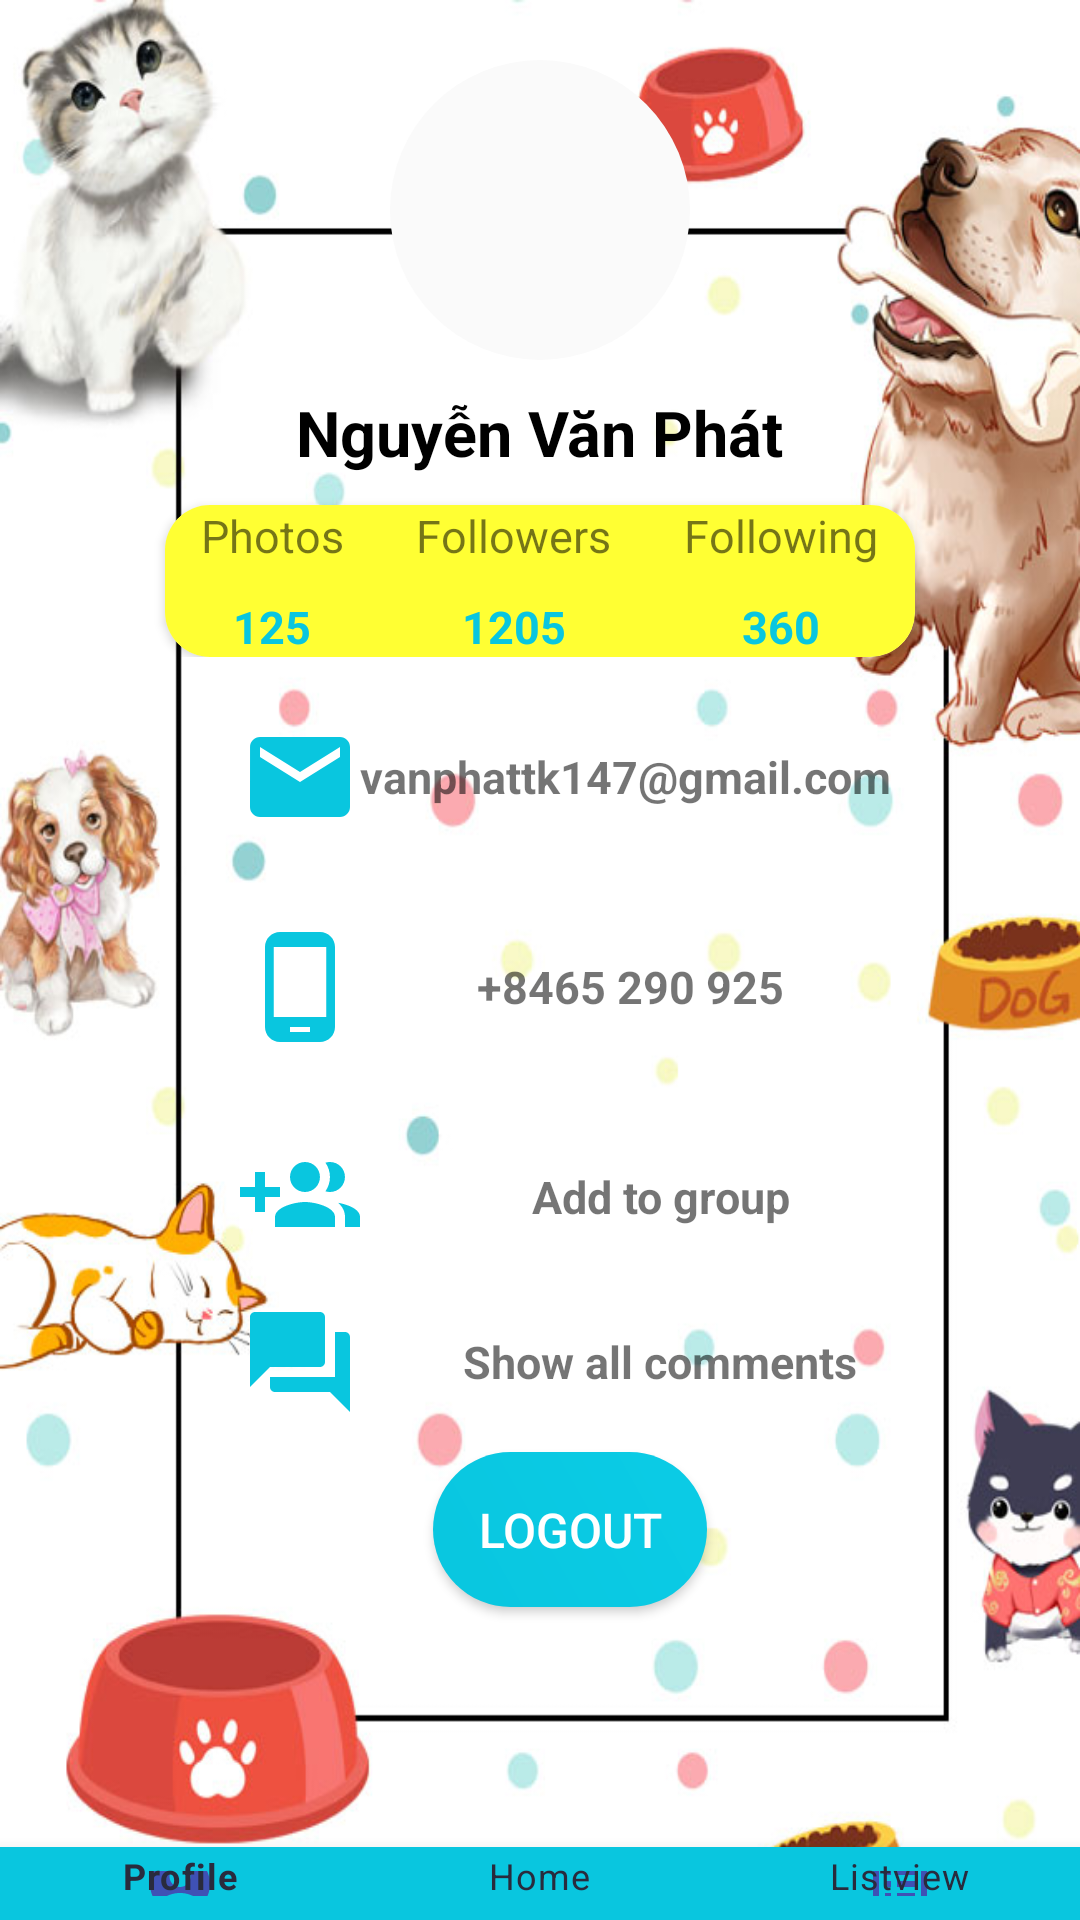

Named icons in this screenshot (1080 × 1920) and their bounding boxes, (x1, y1, x2, y2):
email: (250, 737, 350, 817)
forum: (240, 1302, 350, 1412)
phone android: (265, 932, 335, 1042)
